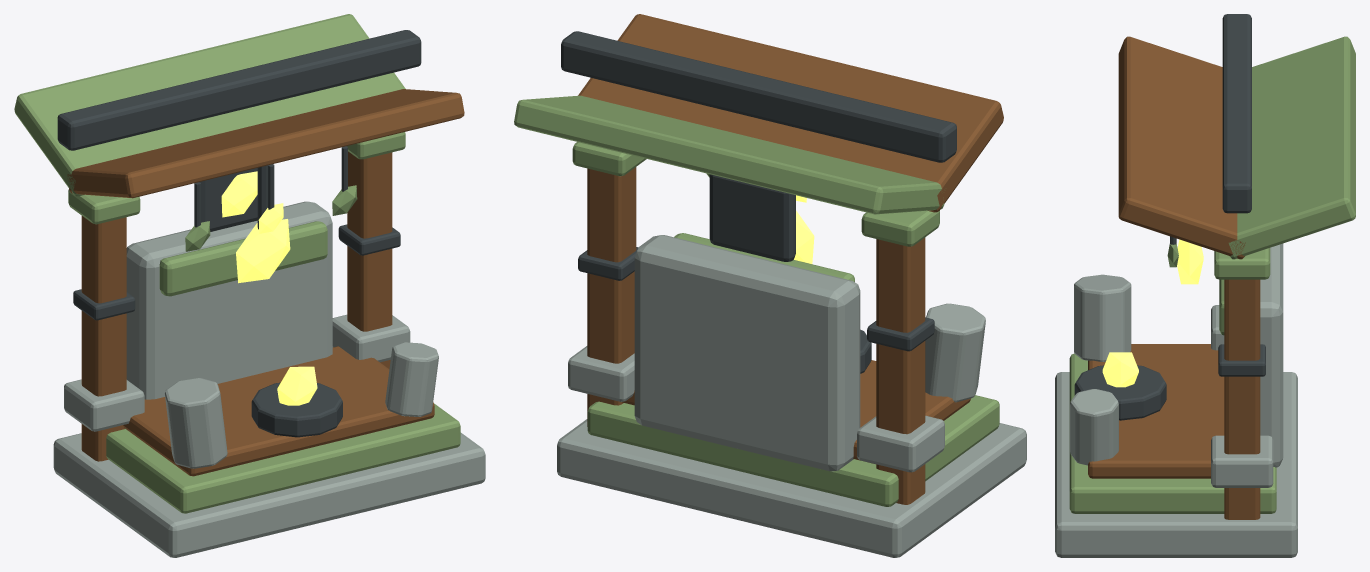
Rendered from SM_EmbermereFenwatchMarshwardShrine_01.fbx.
3 views of the same model, side by side, from view 1: azimuth 30°, elevation 25°; view 2: azimuth 150°, elevation 25°; view 3: azimuth 270°, elevation 25° (orthographic). The views are drawn at different scales.
Visible parts, largest first — view 1: SM_EmbermereFenwatchMarshwardShrine_01; view 2: SM_EmbermereFenwatchMarshwardShrine_01; view 3: SM_EmbermereFenwatchMarshwardShrine_01.
Part boxes in pixels (x1,y1,x2,y2): SM_EmbermereFenwatchMarshwardShrine_01: [14, 14, 485, 557]; SM_EmbermereFenwatchMarshwardShrine_01: [514, 14, 1026, 557]; SM_EmbermereFenwatchMarshwardShrine_01: [1055, 14, 1355, 557].
Size of what is drawn, in the model's own units: 250 by 183 by 258.
